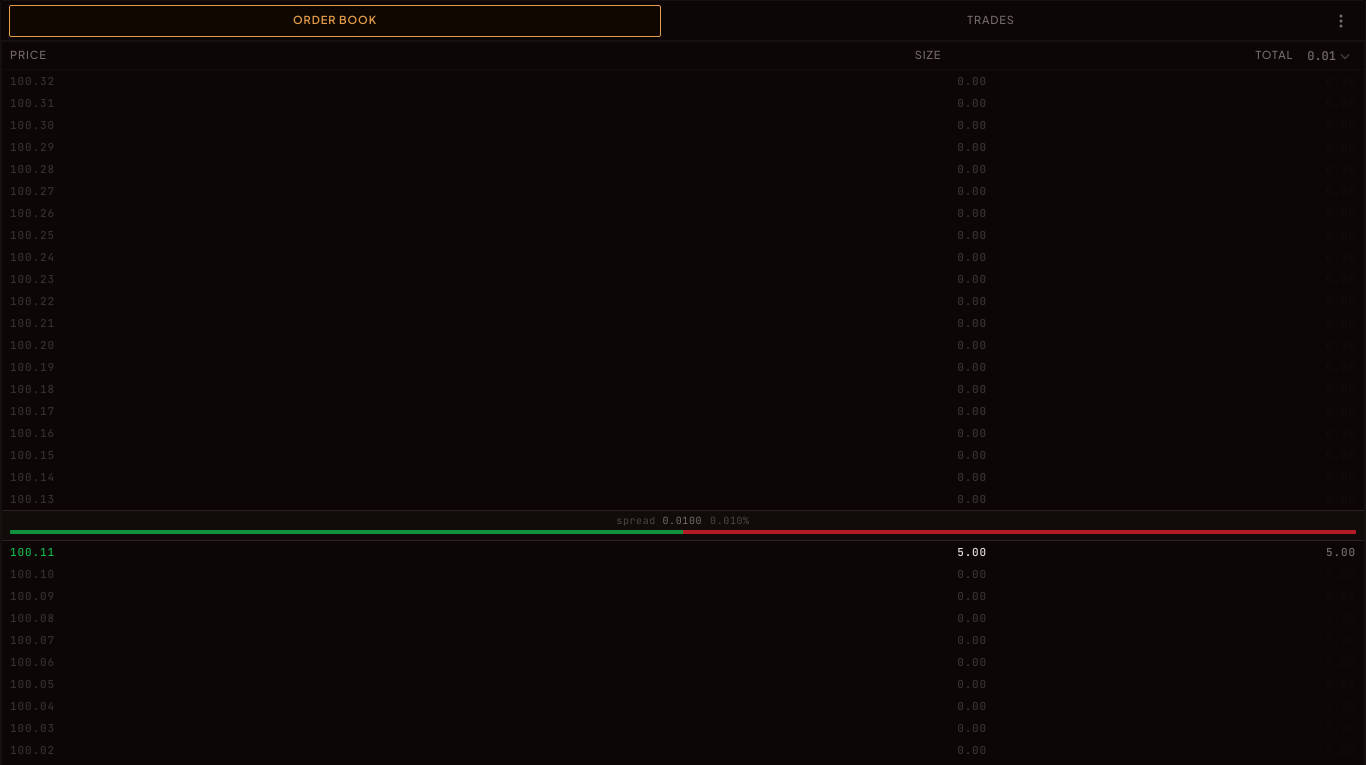
Test: OrderBook view modes › tab mode defaults to order book and can switch to trades
The image size is (1366, 765).
Click the tab "Trades". click: (991, 20)
box: [665,4,1317,36]
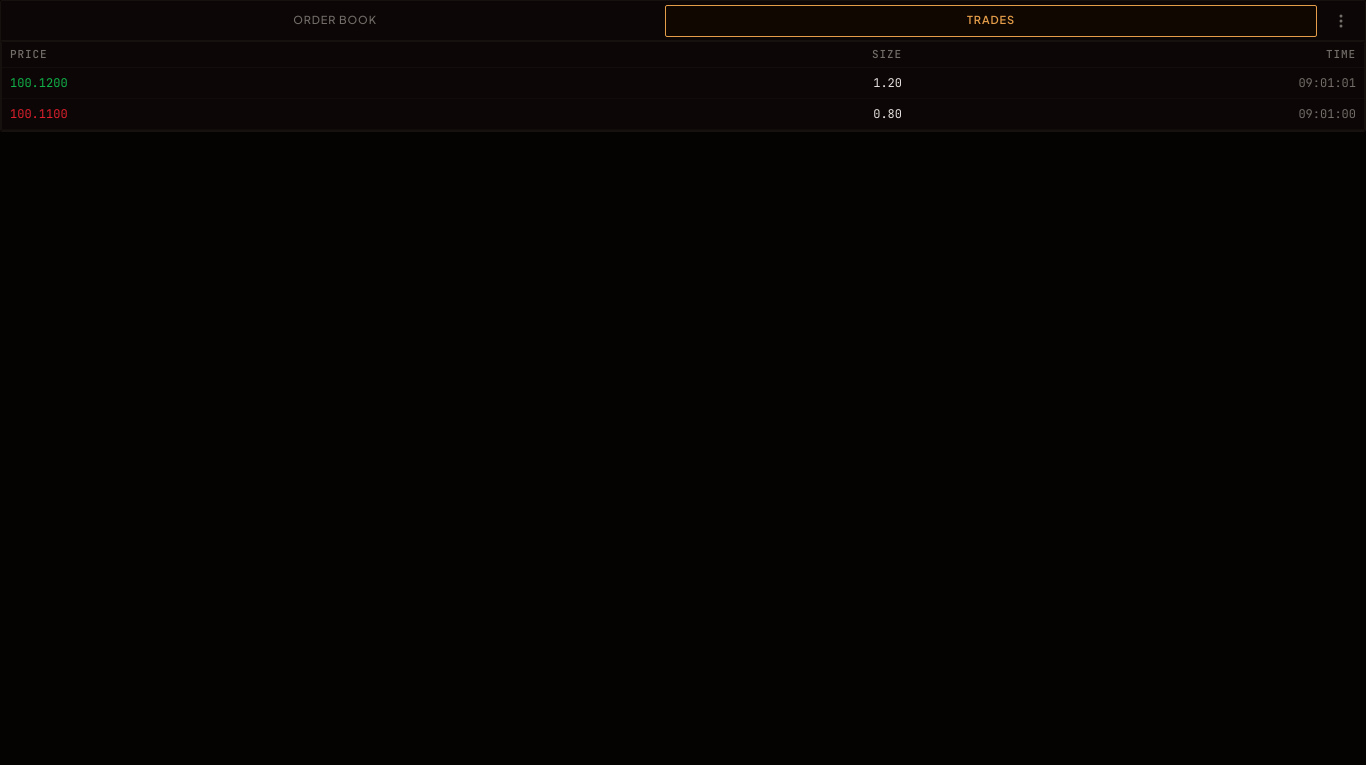
Result: the panel named "trades" is shown at [1,41,1365,130]
Result: the column heading "Time" is shown at [910,42,1364,67]
